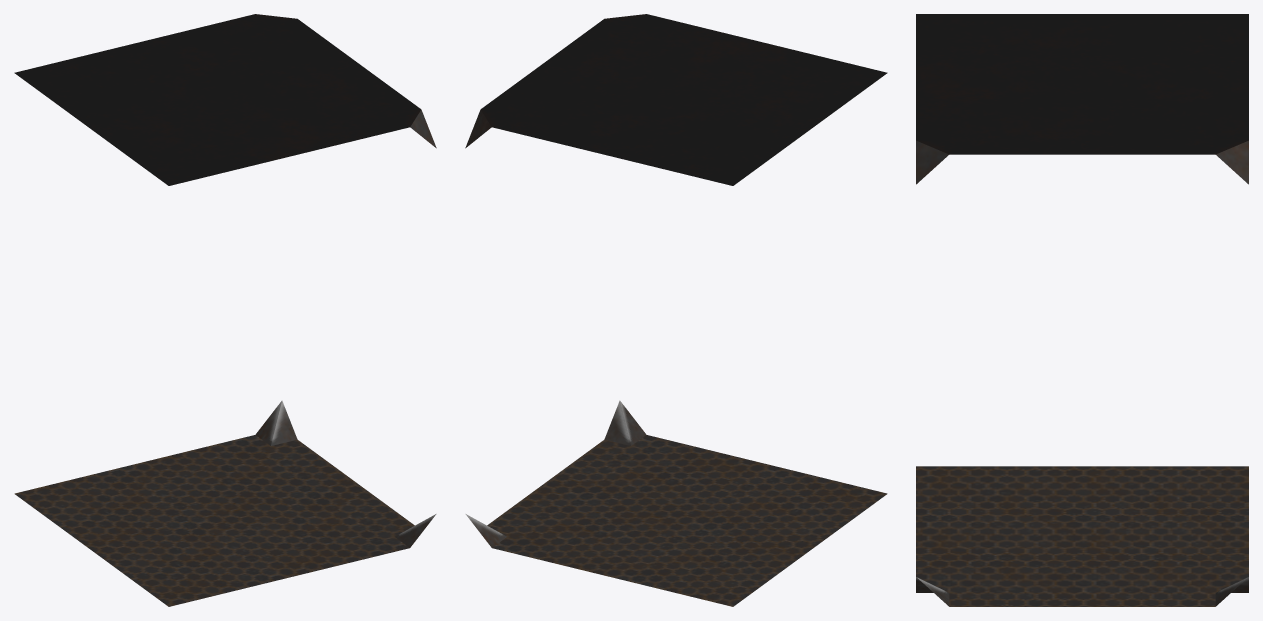
File: RoomEntrance.fbx
3 renders of one model, left to right at view 1: azimuth 30°, elevation 25°; view 2: azimuth 150°, elevation 25°; view 3: azimuth 270°, elevation 25°, orthographic. The views are drawn at different scales.
Visible parts, largest first — view 1: RoomEntrance; view 2: RoomEntrance; view 3: RoomEntrance.
Part boxes in pixels (left/top/right/bottom): RoomEntrance: left=14, top=14, right=436, bottom=606; RoomEntrance: left=465, top=14, right=887, bottom=606; RoomEntrance: left=916, top=14, right=1248, bottom=606.
Bounding box in the file's own units: 200 × 300 × 200.
Materials: 1 (1 with a texture image).
